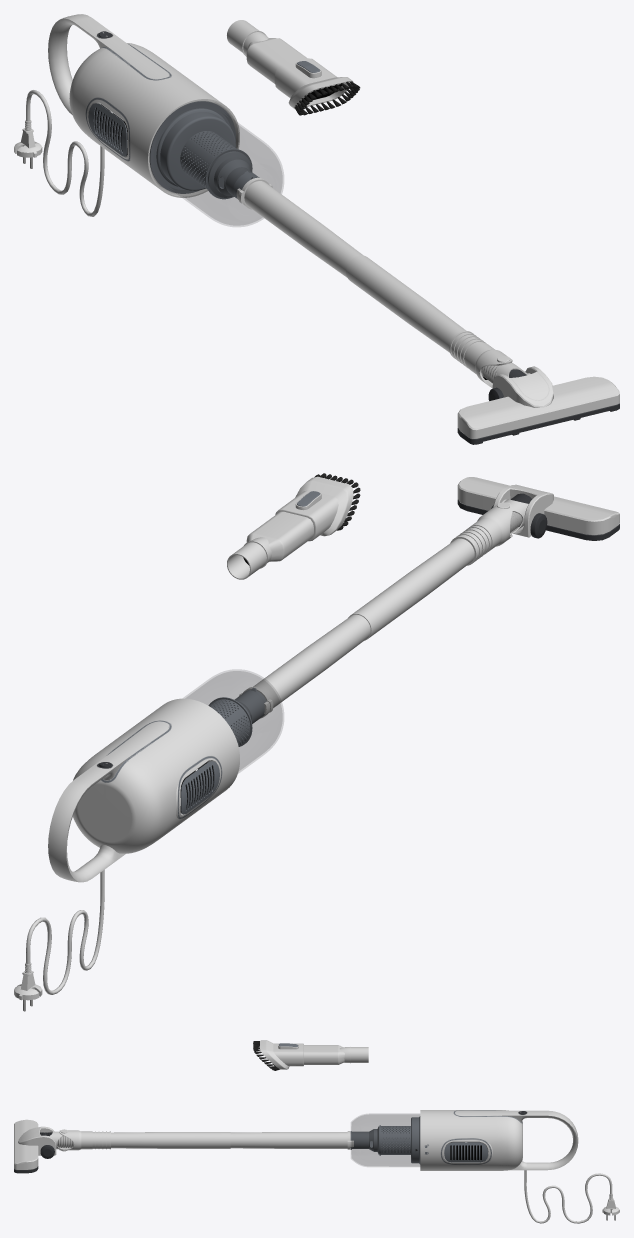
Rendered from VacuumF.fbx.
3 renders of one model, top to bottom at view 1: azimuth 30°, elevation 25°; view 2: azimuth 150°, elevation 25°; view 3: azimuth 270°, elevation 25°, orthographic. The views are drawn at different scales.
Visible parts, largest first — view 1: body, dustContainer, extensLong00, filterCasing, extensShort, extensLong03, extensLong02, cable, plug; view 2: body, extensLong00, extensShort, dustContainer, extensLong03, extensLong02, cable, filterCasing; view 3: body, dustContainer, extensLong00, extensShort, extensLong03, extensLong02, filterCasing, cable.
Part boxes in pixels (x1,y1,x2,y2): body: (48,14,239,197); dustContainer: (149,101,283,226); extensLong00: (449,330,619,444); filterCasing: (149,101,259,199); extensShort: (227,20,360,115); extensLong03: (346,255,465,352); extensLong02: (244,181,363,277); cable: (26,90,104,216); plug: (14,120,42,168); body: (48,698,239,882); extensLong00: (450,477,619,565); extensShort: (227,473,360,579); dustContainer: (184,670,283,773); extensLong03: (348,538,474,640); extensLong02: (253,614,370,707); cable: (26,870,104,994); filterCasing: (208,687,266,746); body: (420,1110,578,1170); dustContainer: (351,1114,419,1166); extensLong00: (14,1119,110,1173); extensShort: (253,1040,368,1070); extensLong03: (111,1132,230,1148); extensLong02: (230,1132,347,1148); filterCasing: (350,1116,420,1164); cable: (524,1170,612,1223).
Size of the model in its own units: 100 by 198 by 609.
